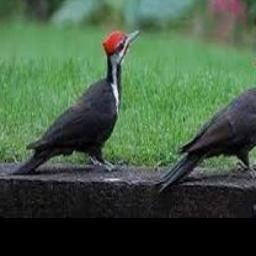Woodpecker: (12, 29, 142, 173), (155, 49, 256, 191)
